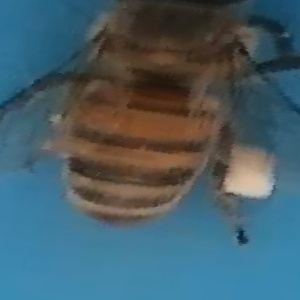bee: (47, 1, 297, 244)
